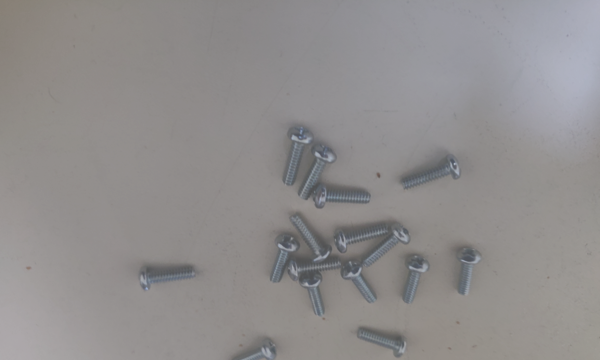shortscrew: (298, 143, 337, 200), (402, 154, 462, 190), (362, 223, 411, 267), (290, 214, 333, 264), (283, 127, 314, 187), (334, 224, 389, 254), (270, 233, 301, 284), (342, 261, 378, 304), (358, 329, 407, 360), (139, 267, 197, 292), (286, 257, 343, 282), (402, 255, 430, 304), (314, 185, 371, 209), (455, 248, 483, 296), (298, 272, 325, 319), (229, 339, 278, 360)
